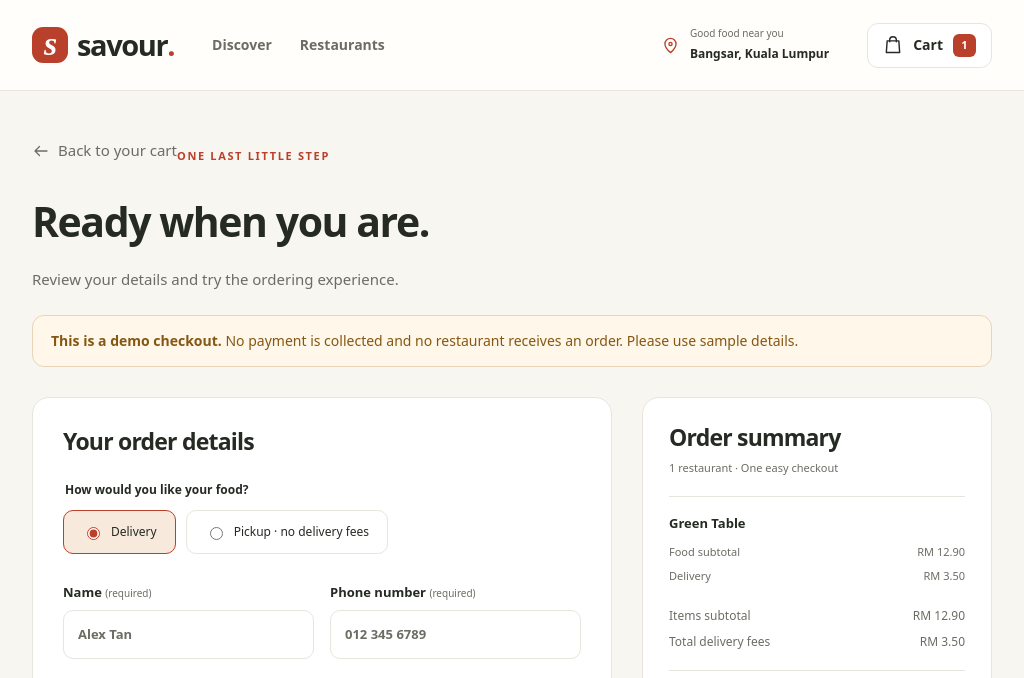
Test: ordering experience › keeps the cart available after submission errors
Expected: the heading "Your order details" is shown, 63,424 -> 254,456
Click the radio button labelled "Pickup · no delivery fees". click: {"x": 216, "y": 534}
box: 210,527 -> 223,540
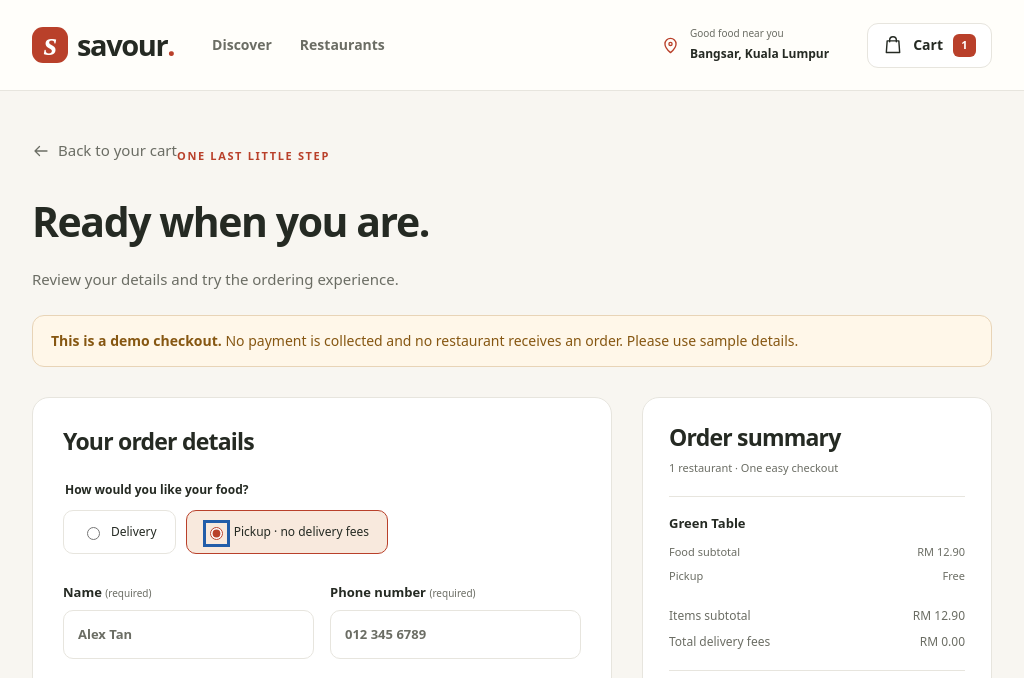
Type "Demo Guest" into the field labelled "Name (required)". click: {"x": 188, "y": 634}
box: 63,610 -> 314,658
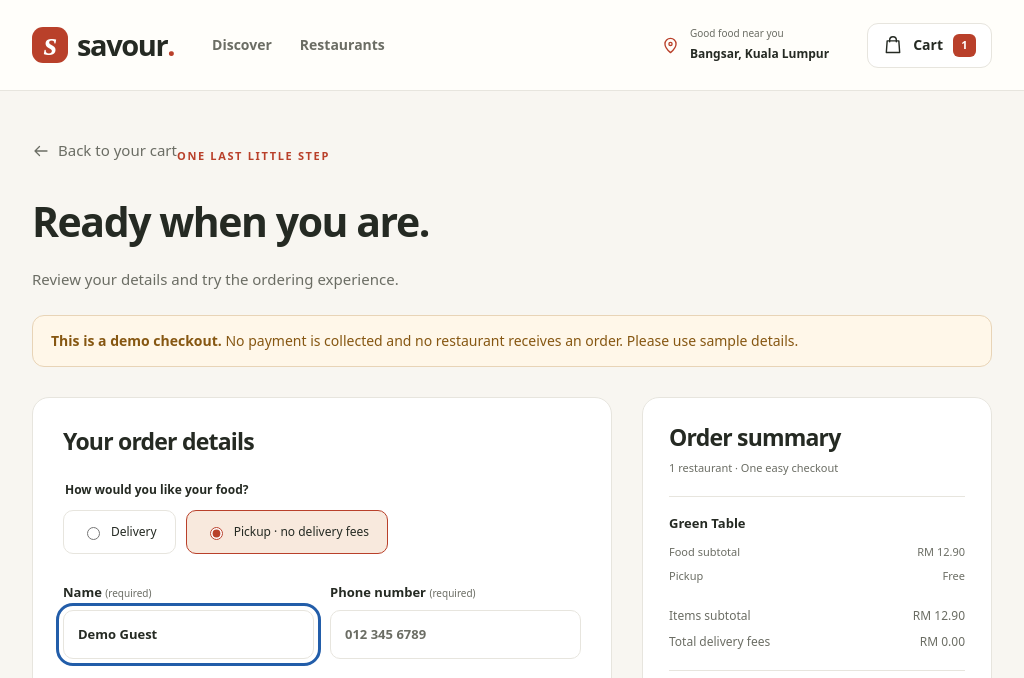
Type "0123456789" into the field labelled "Phone number (required)". click: {"x": 456, "y": 634}
box: 330,610 -> 581,658
(page scrolled)
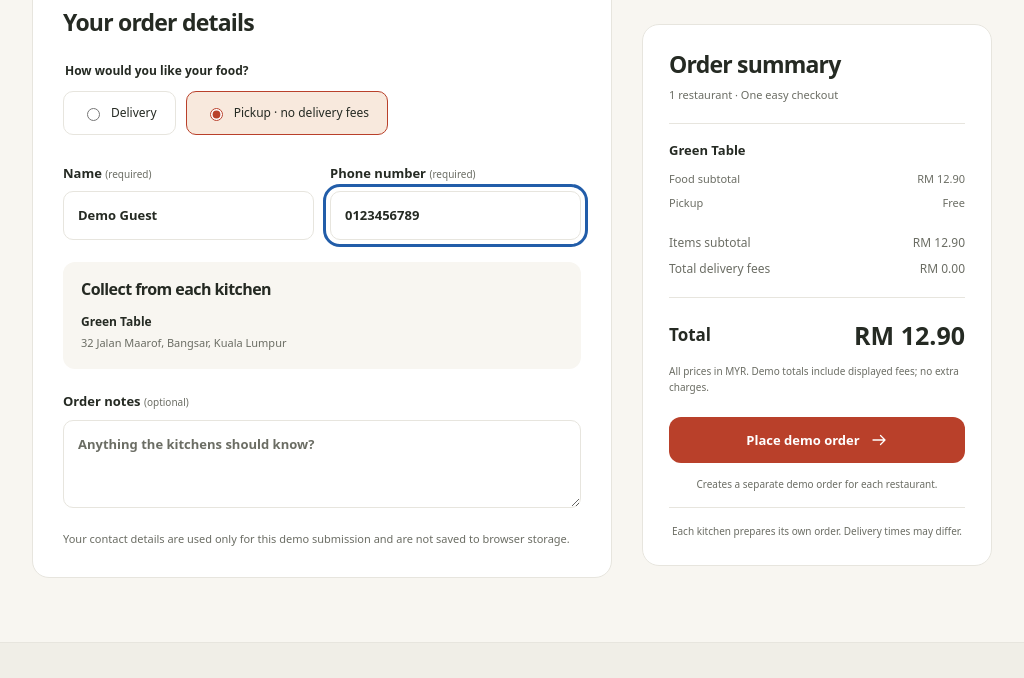
Click the button "Place demo order". click: {"x": 817, "y": 441}
box: 669,418 -> 965,464
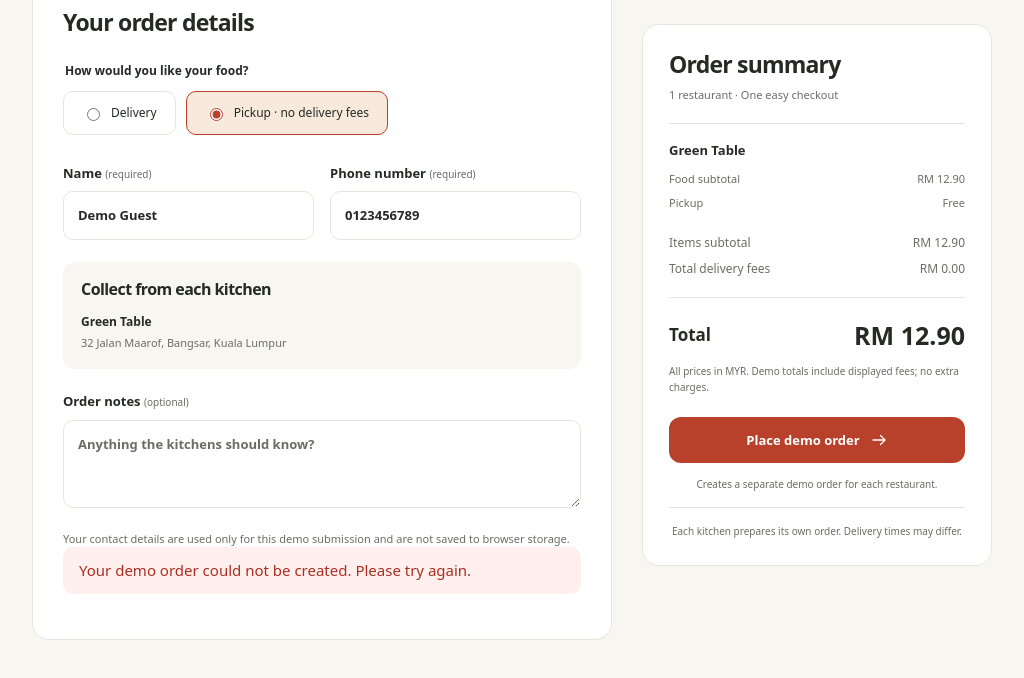
Now the message shows "could not be created", box 79,560 -> 471,580
